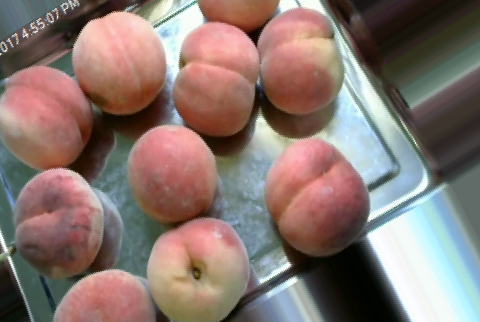Peach: (266, 136, 369, 256), (146, 215, 252, 320), (71, 9, 169, 112), (172, 23, 260, 137), (14, 169, 105, 279), (0, 64, 93, 169), (257, 6, 343, 118), (128, 124, 219, 224), (51, 268, 154, 321)
